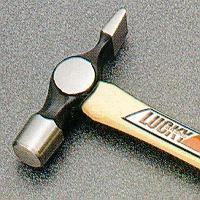hammer: (13, 8, 200, 178)
